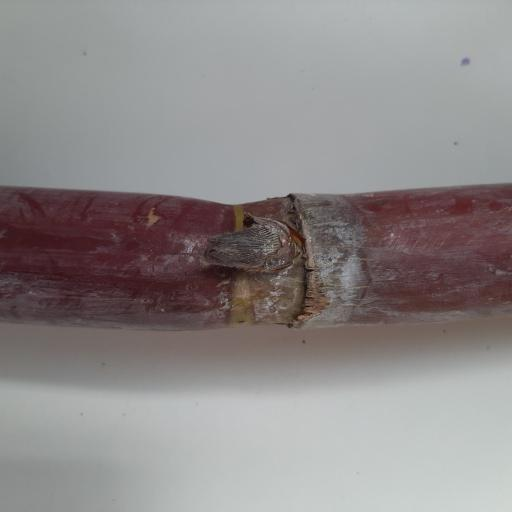Bud: (207, 225, 294, 270)
